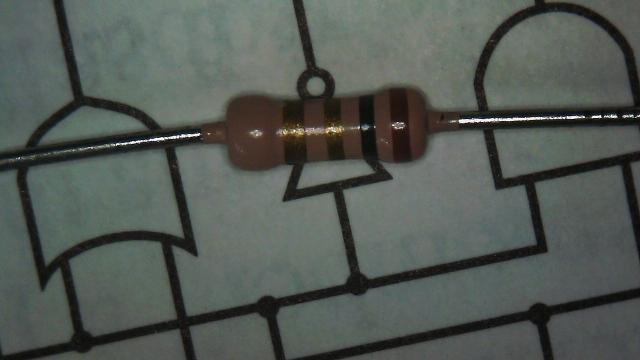black: (359, 98, 376, 154)
brown: (390, 90, 410, 156)
gold: (283, 101, 306, 162), (324, 100, 344, 160)
resistor: (196, 64, 462, 197)
